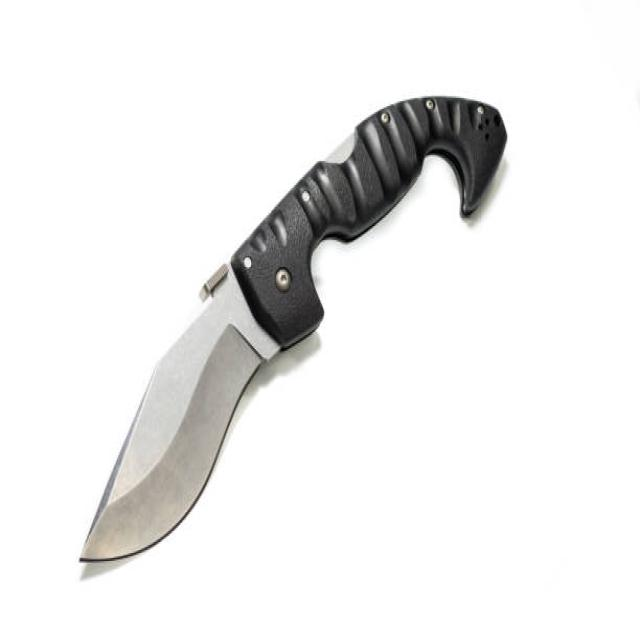knife: (74, 95, 512, 583)
